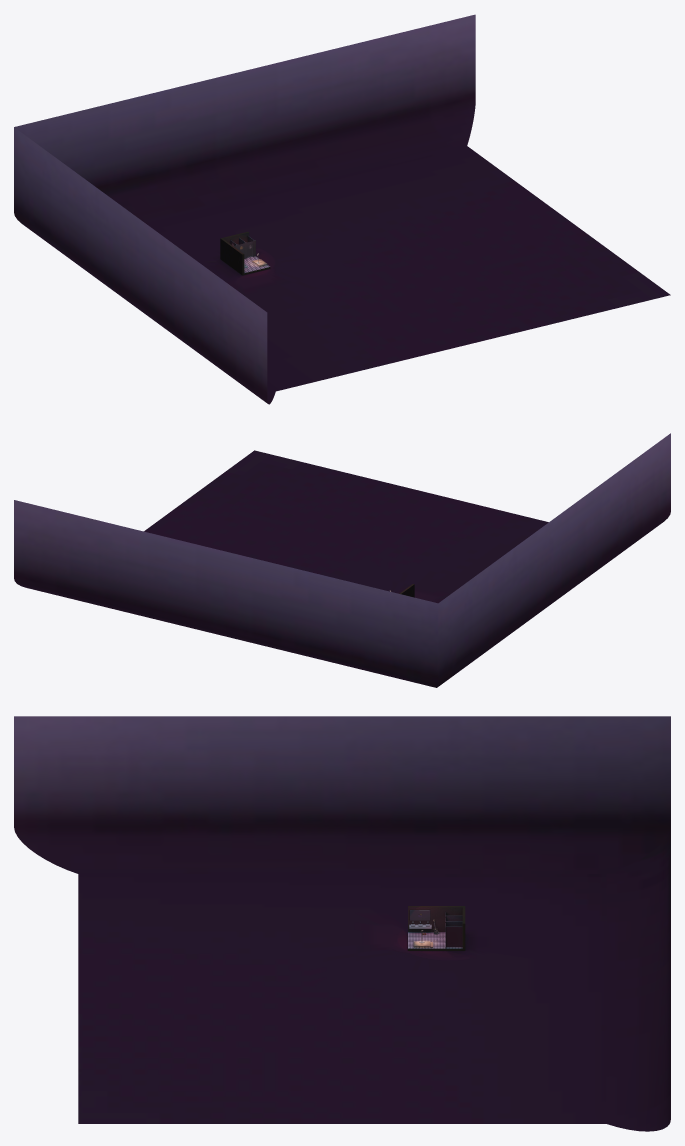
The model's file is f-toilet.glb.
The picture shows the model from 3 angles, top to bottom: view 1: azimuth 30°, elevation 25°; view 2: azimuth 150°, elevation 25°; view 3: azimuth 270°, elevation 25°; orthographic projection. The views are drawn at different scales.
Parts seen in each view (by area): view 1: FT-Set3; view 2: FT-Set3; view 3: FT-Set3, FT-Set1.
Part boxes in pixels (x1,y1,x2,y2): FT-Set3: [14, 14, 670, 404]; FT-Set3: [14, 433, 670, 687]; FT-Set3: [14, 716, 670, 1131]; FT-Set1: [409, 912, 462, 948].
Bounding box in the file's own units: 97.21 × 21.18 × 92.35.
Materials: 4 (4 with a texture image).
